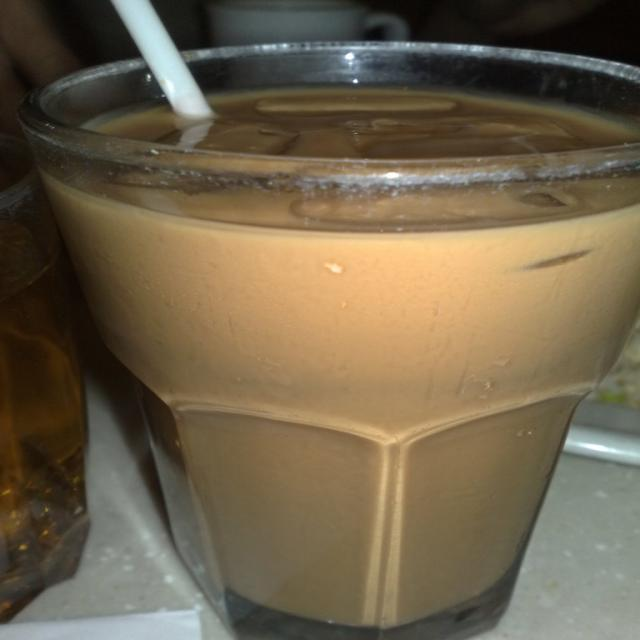Coffee: (38, 77, 640, 627)
Tea: (37, 81, 640, 626)
